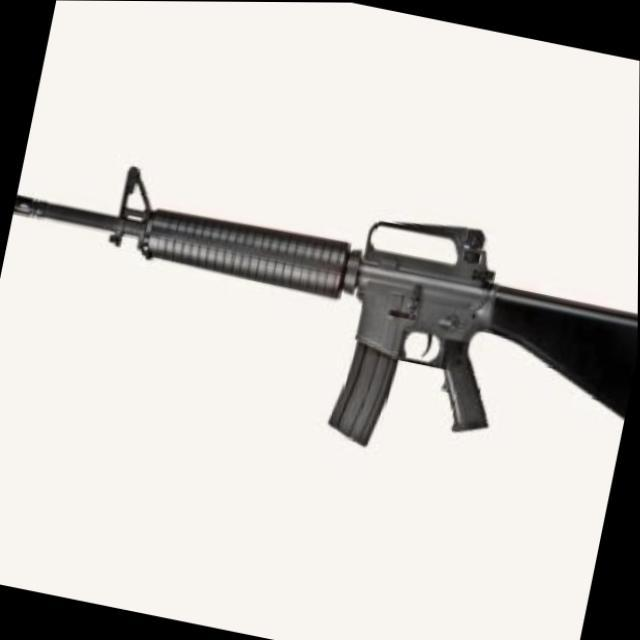weapon: (0, 135, 639, 495)
